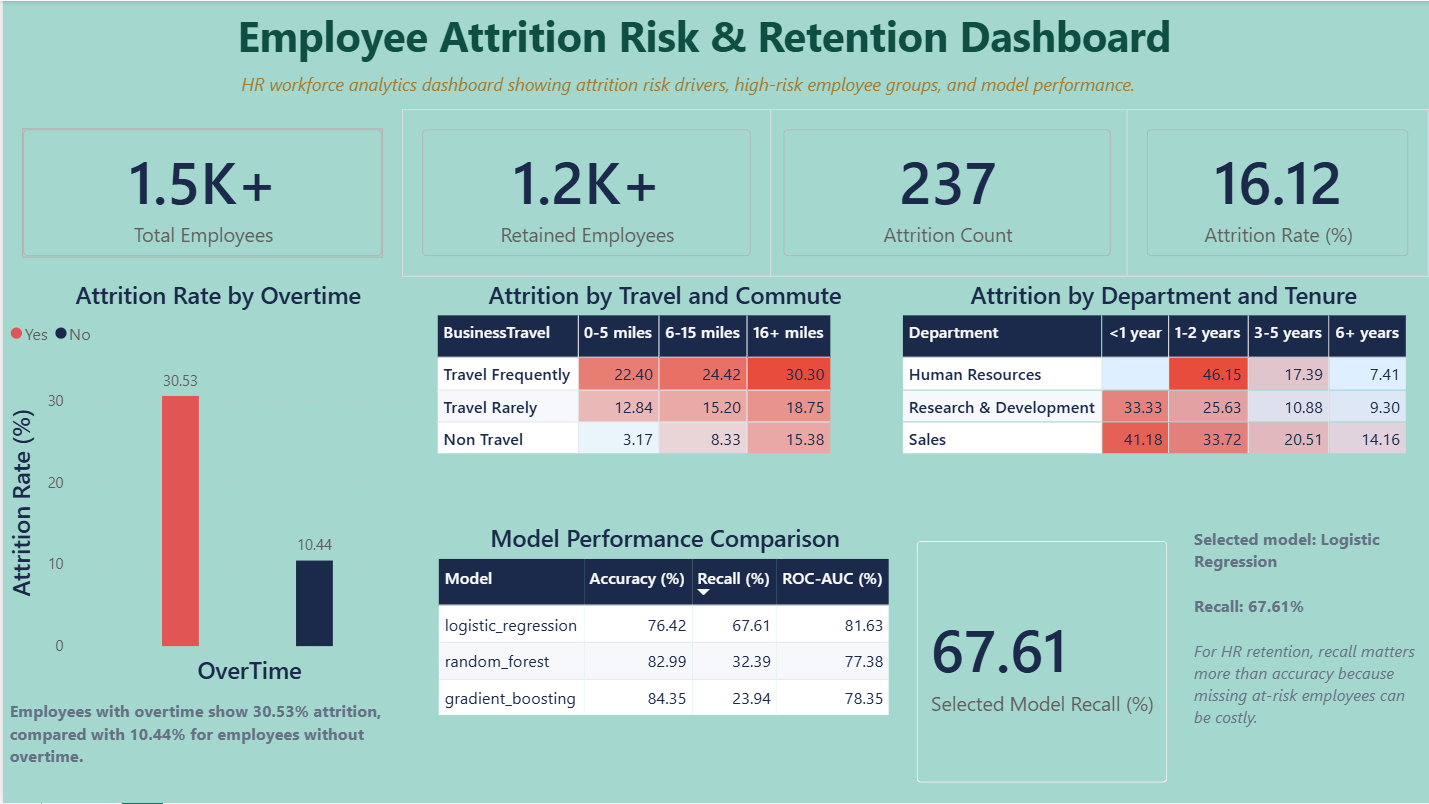

The dashboard page shown, as its layout file describes it:
{"tool":"powerbi","page":{"name":"Page 1","canvas":[1280,720],"ordinal":0},"visuals":[{"type":"textbox","box":[137.6,0,984,65],"z":0},{"type":"textbox","box":[188.5,57.5,853,39.6],"z":1000},{"type":"cardVisual","fields":{"Data":["attrition_overview.Total Employees Display"]},"box":[0,97.1,358.2,150.8],"z":2000},{"type":"cardVisual","fields":{"Data":["Sum(attrition_overview.attrition_count)"]},"box":[682.4,97.1,330.8,150.8],"z":3000},{"type":"cardVisual","fields":{"Data":["attrition_overview.Retained Employees Display"]},"box":[358.2,97.1,331.8,150.8],"z":4000},{"type":"cardVisual","fields":{"Data":["Sum(attrition_overview.attrition_rate_pct)"]},"box":[1008.5,97.1,271.4,150.8],"z":5000},{"type":"clusteredColumnChart","title":"Attrition Rate by Overtime","fields":{"Category":["attrition_by_overtime.OverTime"],"Y":["Sum(attrition_by_overtime.attrition_rate_pct)"],"Series":["attrition_by_overtime.OverTime"]},"box":[0,247.9,384.5,373.2],"z":6000},{"type":"pivotTable","title":"Attrition by Department and Tenure","fields":{"Rows":["attrition_by_department_tenure.Department"],"Columns":["attrition_by_department_tenure.tenure_band"],"Values":["Sum(attrition_by_department_tenure.attrition_rate_pct)"]},"box":[802.1,247.9,477.9,218.7],"z":7000},{"type":"pivotTable","title":"Attrition by Travel and Commute","fields":{"Values":["Sum(attrition_by_travel_commute.attrition_rate_pct)"],"Columns":["attrition_by_travel_commute.commute_band"],"Rows":["attrition_by_travel_commute.BusinessTravel"]},"box":[384.5,247.9,417.5,218.7],"z":8000},{"type":"tableEx","title":"Model Performance Comparison","fields":{"Values":["model_metrics.model","Sum(model_metrics.accuracy_pct)","Sum(model_metrics.attrition_recall_pct)","Sum(model_metrics.roc_auc_pct)"]},"box":[384.5,466.5,417.5,253.5],"z":9000},{"type":"textbox","box":[1063.2,466.5,216.8,253.5],"z":10000},{"type":"cardVisual","fields":{"Data":["model_metrics.Selected Model Recall"]},"box":[802.1,466.5,261.1,253.5],"z":11000},{"type":"textbox","box":[0,621.1,384.5,99],"z":12000}]}

Visuals, with their boxes in screenshot pixels (x1, y1, x2, y2), scaled from the page's 1280x720 canvas onto the 1429x804 screenshot:
textbox: 154,0,1252,73
textbox: 210,64,1163,108
cardVisual - attrition_overview.Total Employees Display: 0,108,400,277
cardVisual - Sum(attrition_overview.attrition_count): 762,108,1131,277
cardVisual - attrition_overview.Retained Employees Display: 400,108,770,277
cardVisual - Sum(attrition_overview.attrition_rate_pct): 1126,108,1428,277
"Attrition Rate by Overtime" clusteredColumnChart: 0,277,429,694
"Attrition by Department and Tenure" pivotTable: 895,277,1428,521
"Attrition by Travel and Commute" pivotTable: 429,277,895,521
"Model Performance Comparison" tableEx: 429,521,895,803
textbox: 1187,521,1428,803
cardVisual - model_metrics.Selected Model Recall: 895,521,1187,803
textbox: 0,694,429,803
